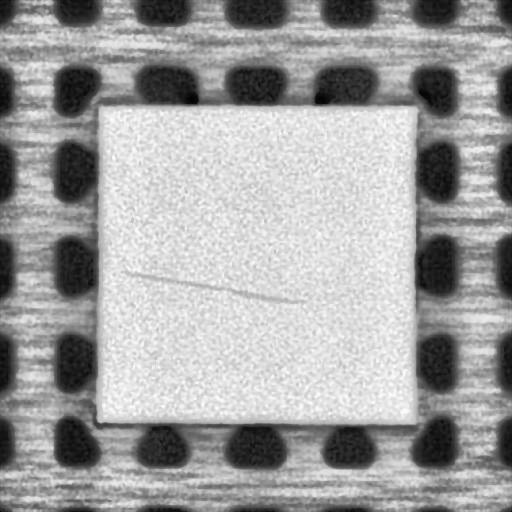DIE_CRACK: (119, 267, 295, 304)
